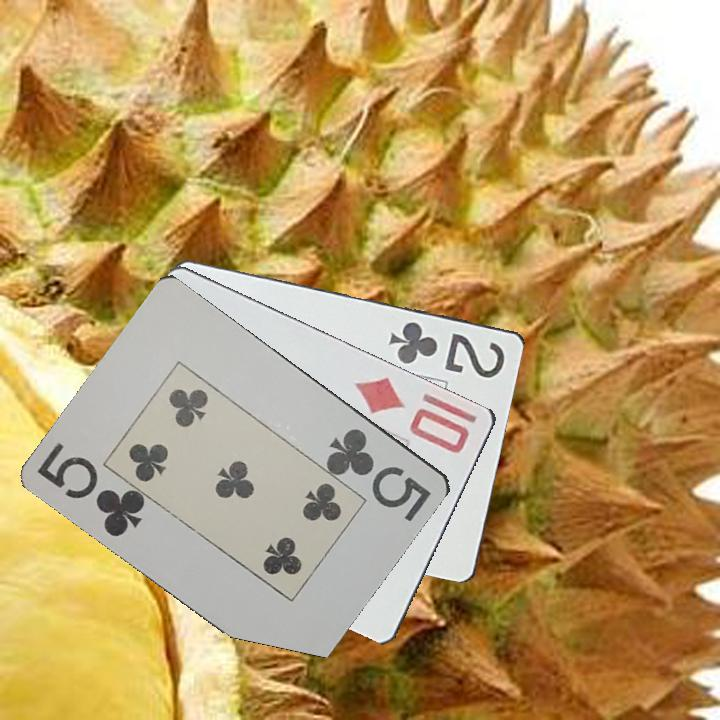2c: (386, 318, 509, 381)
5c: (33, 438, 149, 540), (323, 424, 435, 525)
Td: (352, 373, 473, 456)
